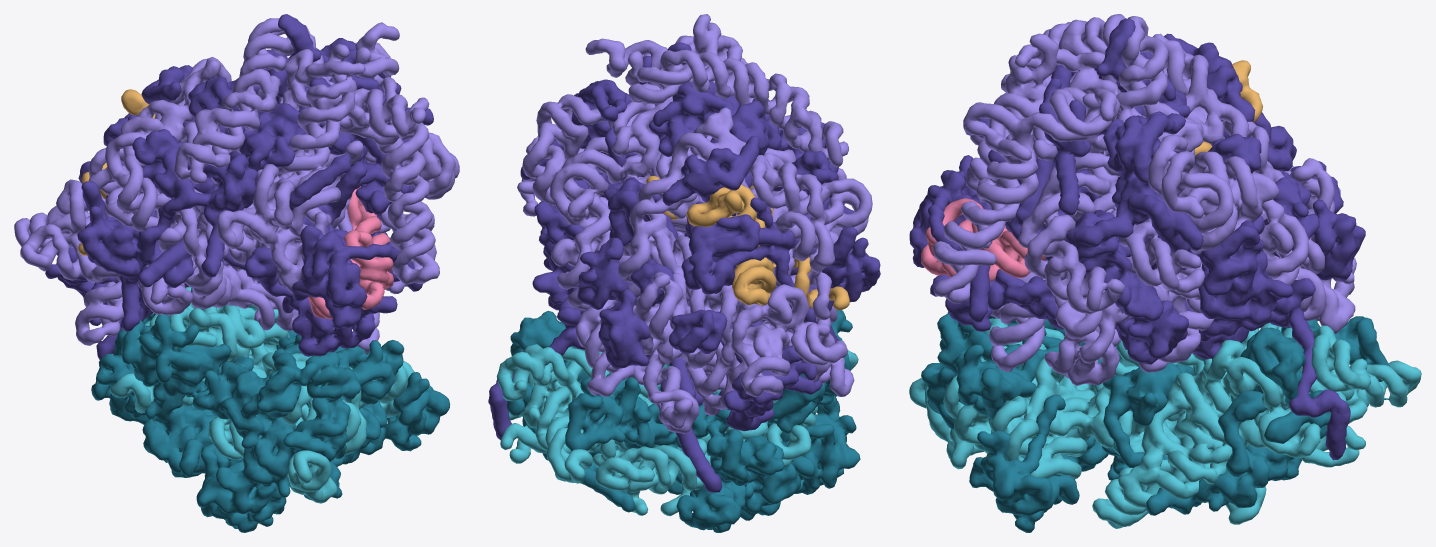
The model's file is translation_ribosome_specimen.glb.
3 views of the same model, side by side, from view 1: azimuth 30°, elevation 25°; view 2: azimuth 150°, elevation 25°; view 3: azimuth 270°, elevation 25° (orthographic). The views are drawn at different scales.
Parts seen in each view (by area): view 1: GEO-28S-rRNA, GEO-60S-Proteins, GEO-40S-Proteins, GEO-18S-rRNA, GEO-5S-rRNA, GEO-5p8S-rRNA; view 2: GEO-28S-rRNA, GEO-60S-Proteins, GEO-40S-Proteins, GEO-18S-rRNA, GEO-5p8S-rRNA; view 3: GEO-28S-rRNA, GEO-60S-Proteins, GEO-18S-rRNA, GEO-40S-Proteins, GEO-5S-rRNA, GEO-5p8S-rRNA.
Part boxes in pixels (x1,y1,x2,y2): GEO-28S-rRNA: [14, 18, 459, 353]; GEO-60S-Proteins: [45, 14, 433, 359]; GEO-40S-Proteins: [91, 313, 450, 532]; GEO-18S-rRNA: [110, 286, 414, 503]; GEO-5S-rRNA: [308, 186, 393, 319]; GEO-5p8S-rRNA: [78, 89, 155, 255]; GEO-28S-rRNA: [517, 14, 872, 433]; GEO-60S-Proteins: [488, 42, 880, 492]; GEO-40S-Proteins: [507, 309, 860, 532]; GEO-18S-rRNA: [496, 344, 858, 516]; GEO-5p8S-rRNA: [646, 175, 849, 310]; GEO-28S-rRNA: [933, 14, 1356, 385]; GEO-60S-Proteins: [909, 18, 1365, 460]; GEO-18S-rRNA: [909, 318, 1421, 528]; GEO-40S-Proteins: [921, 311, 1389, 532]; GEO-5S-rRNA: [921, 198, 1046, 281]; GEO-5p8S-rRNA: [1194, 60, 1262, 156].
Bounding box in the file's own units: 6.47 × 7.67 × 6.93.
